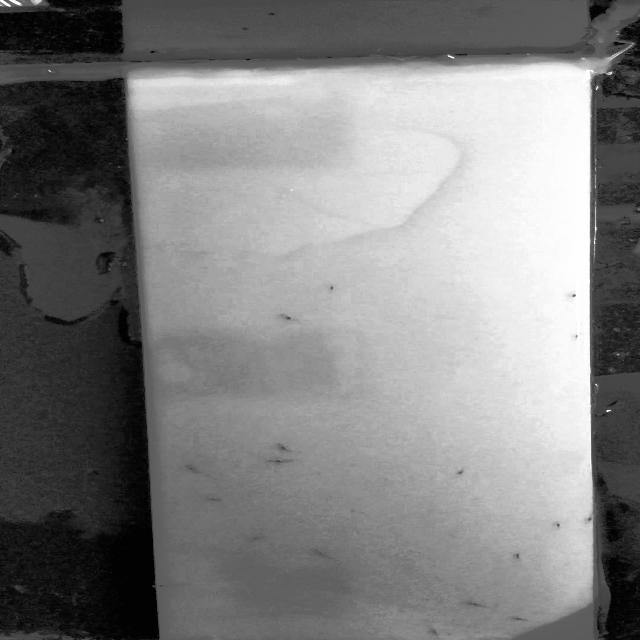shrimp: (266, 312, 306, 326), (447, 465, 481, 481), (242, 534, 278, 549), (502, 549, 533, 566), (456, 596, 486, 612), (302, 548, 340, 560), (196, 492, 228, 506), (542, 519, 570, 535), (175, 464, 211, 476), (320, 280, 347, 296), (507, 613, 542, 625), (269, 441, 300, 454), (416, 626, 451, 636), (576, 512, 598, 527), (563, 288, 580, 304), (272, 455, 287, 467), (157, 582, 171, 592)
